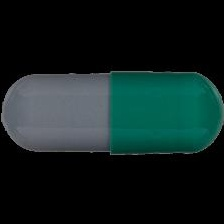42291-331: (0, 0, 224, 224)
